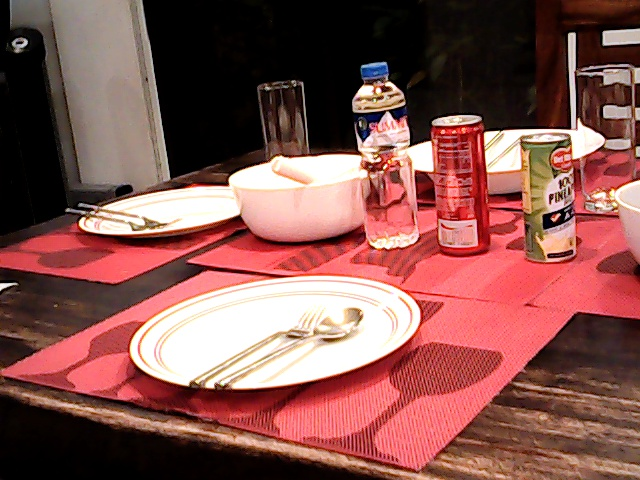Cola: (428, 109, 494, 255)
Pine Juice: (514, 127, 584, 268)
Summit Water: (349, 58, 419, 244)
